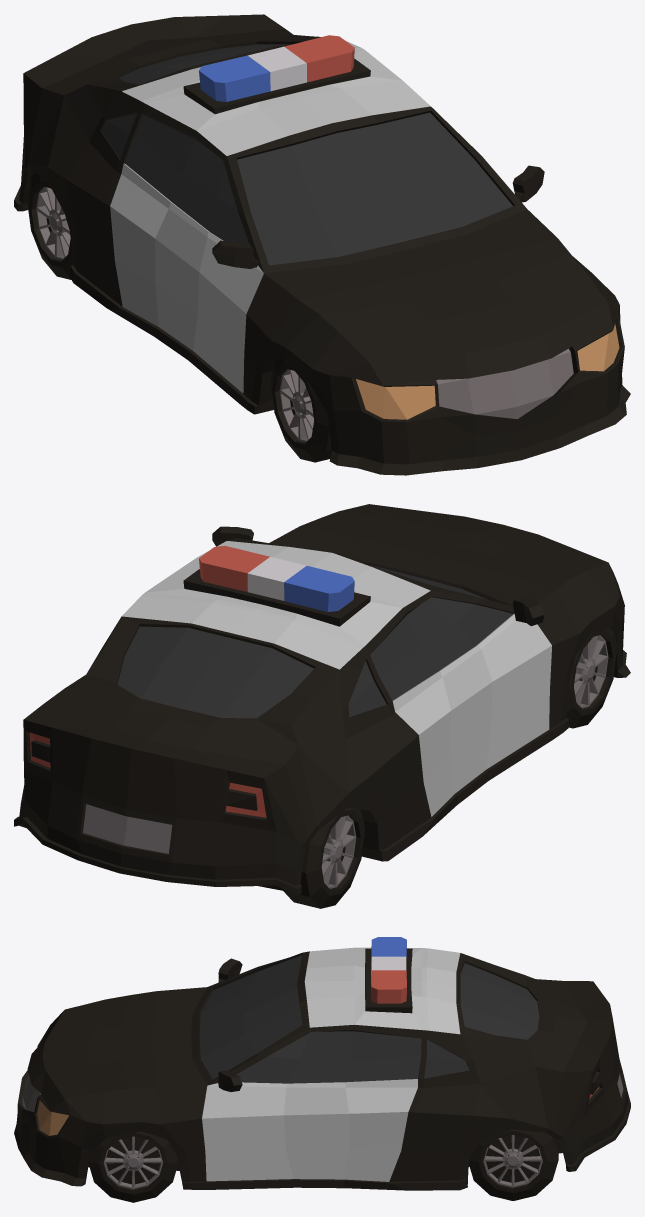
File: car-police.glb
The picture shows the model from 3 angles, top to bottom: view 1: azimuth 30°, elevation 25°; view 2: azimuth 150°, elevation 25°; view 3: azimuth 270°, elevation 25°; orthographic projection. The views are drawn at different scales.
Parts seen in each view (by area): view 1: Cop_Cube.001; view 2: Cop_Cube.001; view 3: Cop_Cube.001.
Boxes of the visible parts, left/top/right/bottom form: Cop_Cube.001: left=14, top=14, right=630, bottom=475; Cop_Cube.001: left=14, top=504, right=630, bottom=908; Cop_Cube.001: left=14, top=937, right=630, bottom=1202.
Size of the model in its own units: 1.78 by 1.24 by 3.73.
1 material, 1 textured.
